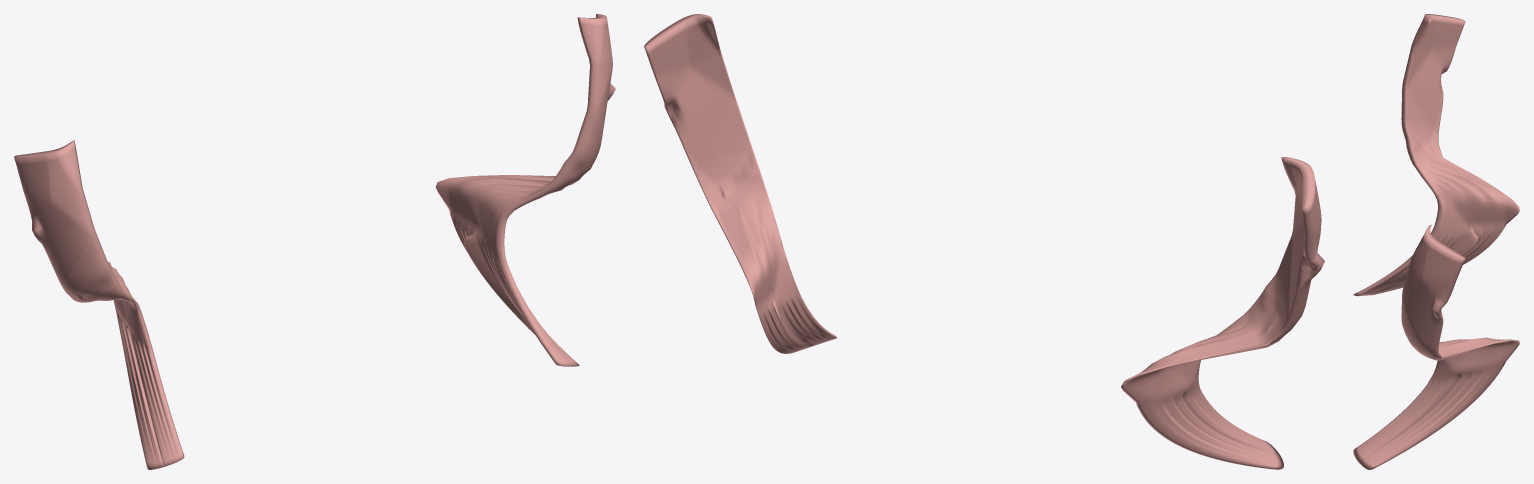
Rendered from zygomaticus.glb.
The picture shows the model from 3 angles, left to right: view 1: azimuth 30°, elevation 25°; view 2: azimuth 150°, elevation 25°; view 3: azimuth 270°, elevation 25°; orthographic projection. The views are drawn at different scales.
Parts seen in each view (by area): view 1: zygomaticus_R, zygomaticus_L; view 2: zygomaticus_L, zygomaticus_R; view 3: zygomaticus_L, zygomaticus_R.
Part boxes in pixels (box(x1,y1,x2,y2)): zygomaticus_R: box(14, 140, 184, 469); zygomaticus_L: box(435, 14, 615, 366); zygomaticus_L: box(644, 14, 836, 353); zygomaticus_R: box(1121, 157, 1324, 469); zygomaticus_L: box(1353, 224, 1519, 469); zygomaticus_R: box(1353, 14, 1519, 296).
Size of the model in its own units: 0.1094 by 0.0554 by 0.0321.
